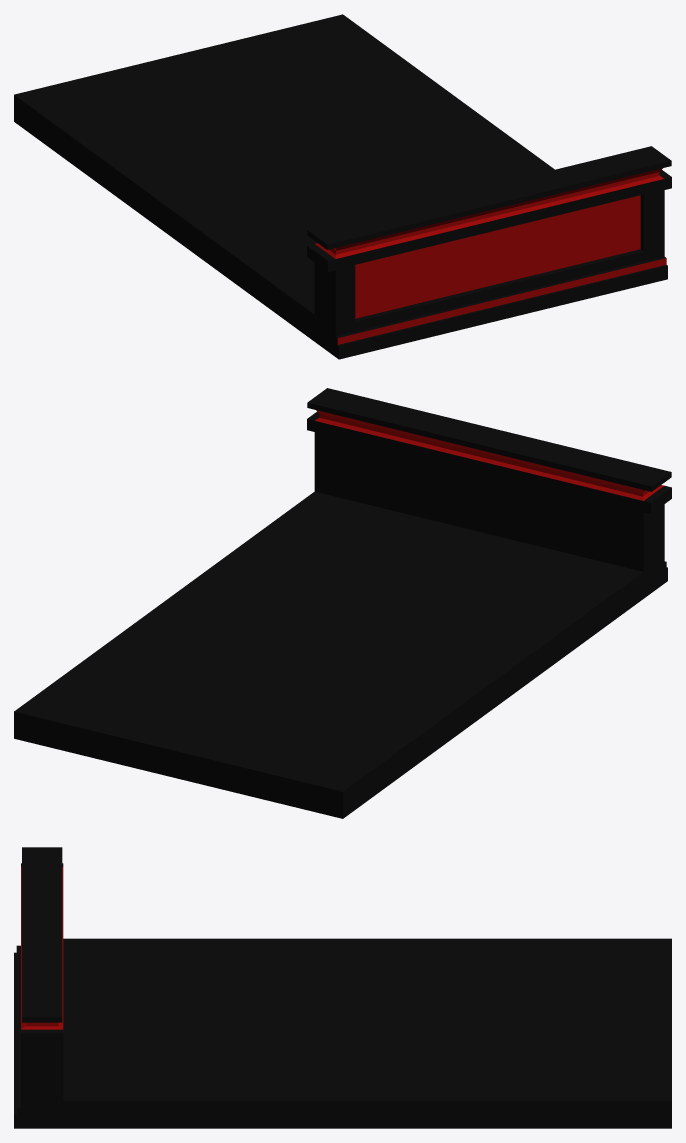
Rendered from BedPart1.FBX.
3 views of the same model, one above another, from view 1: azimuth 30°, elevation 25°; view 2: azimuth 150°, elevation 25°; view 3: azimuth 270°, elevation 25° (orthographic).
Visible parts, largest first — view 1: Box002; view 2: Box002; view 3: Box002.
Boxes of the visible parts, x1,y1,x2,y2 form: Box002: [14, 14, 671, 359]; Box002: [14, 388, 671, 818]; Box002: [14, 847, 671, 1128].
Bounding box in the file's own units: 39.67 × 12.54 × 64.86.
